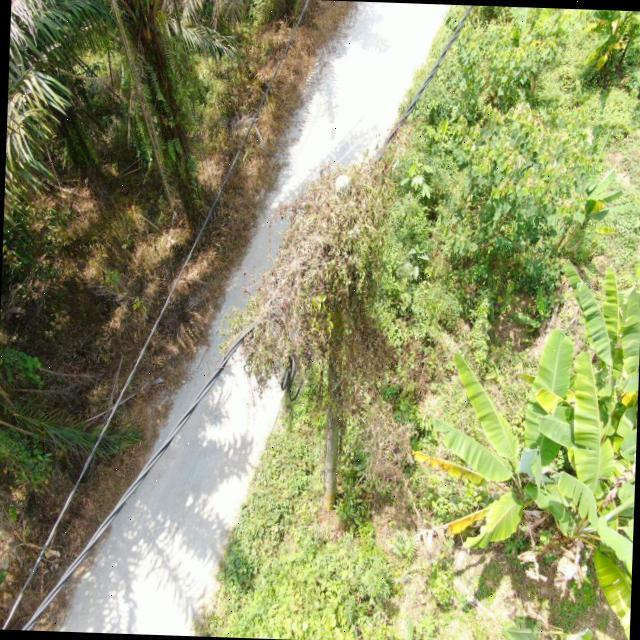critical vegetation: (201, 106, 414, 511)
